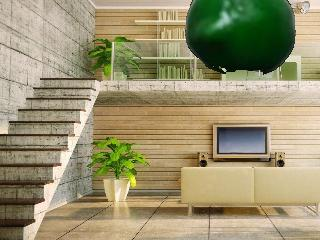lime: (184, 0, 294, 74)
